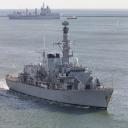Fragata: (6, 22, 115, 111)
